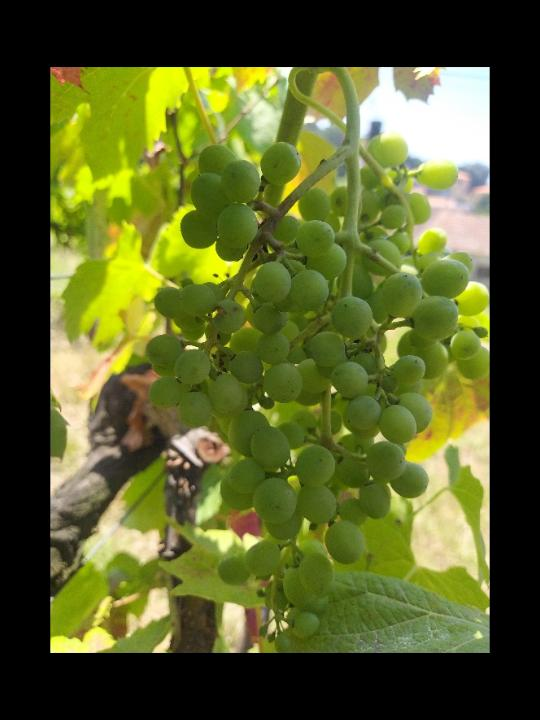grape: (145, 131, 489, 649)
